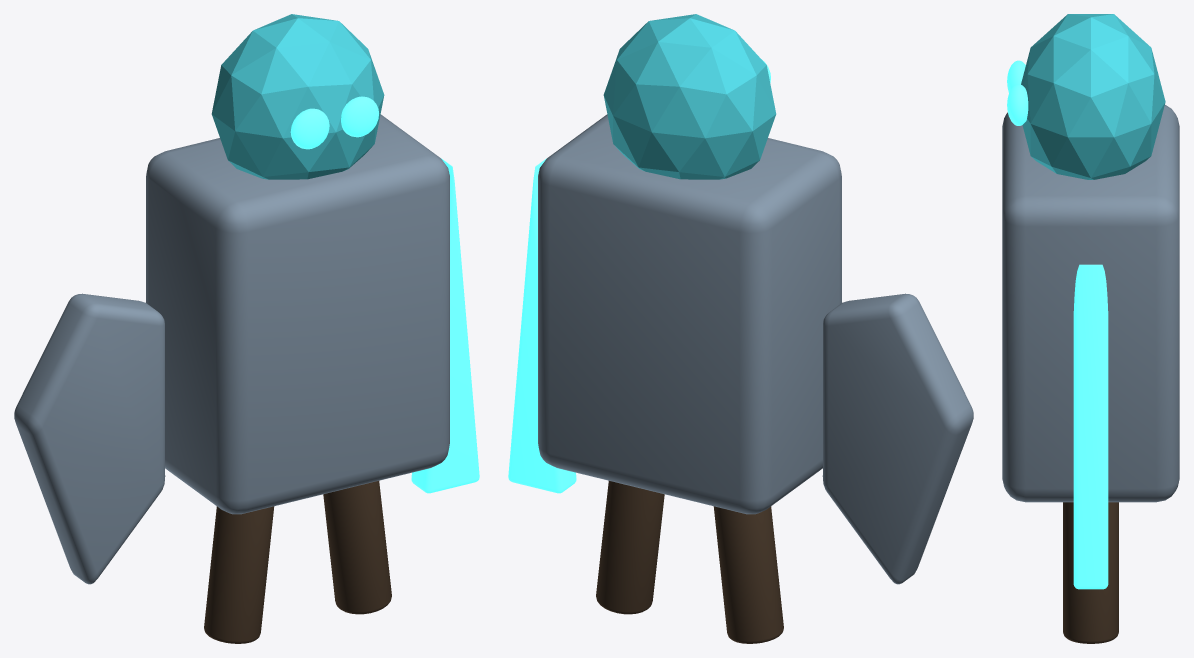
Rendered from undead_v5.glb.
The picture shows the model from 3 angles, left to right: view 1: azimuth 30°, elevation 25°; view 2: azimuth 150°, elevation 25°; view 3: azimuth 270°, elevation 25°; orthographic projection. The views are drawn at different scales.
Visible parts, largest first — view 1: BONE_KNIGHT_TORSO_PRIMARY, BONE_SHIELD_PRIMARY, SKULL_HELM_ACCENT, BONE_KNIGHT_LEG_SECONDARY, BONE_KNIGHT_LEG_SECONDARY.001, BONE_SWORD_EMISSIVE, EYE_EMISSIVE, EYE_EMISSIVE.001; view 2: BONE_KNIGHT_TORSO_PRIMARY, BONE_SHIELD_PRIMARY, SKULL_HELM_ACCENT, BONE_KNIGHT_LEG_SECONDARY, BONE_KNIGHT_LEG_SECONDARY.001, BONE_SWORD_EMISSIVE; view 3: BONE_KNIGHT_TORSO_PRIMARY, SKULL_HELM_ACCENT, BONE_SWORD_EMISSIVE, BONE_KNIGHT_LEG_SECONDARY.001, EYE_EMISSIVE.001, EYE_EMISSIVE.
Boxes of the visible parts, x1,y1,x2,y2 form: BONE_KNIGHT_TORSO_PRIMARY: (146, 114, 449, 514); BONE_SHIELD_PRIMARY: (14, 293, 165, 584); SKULL_HELM_ACCENT: (211, 14, 384, 179); BONE_KNIGHT_LEG_SECONDARY: (204, 506, 274, 643); BONE_KNIGHT_LEG_SECONDARY.001: (323, 481, 391, 614); BONE_SWORD_EMISSIVE: (411, 158, 479, 493); EYE_EMISSIVE: (290, 108, 329, 149); EYE_EMISSIVE.001: (341, 96, 378, 137); BONE_KNIGHT_TORSO_PRIMARY: (538, 114, 841, 514); BONE_SHIELD_PRIMARY: (822, 293, 973, 584); SKULL_HELM_ACCENT: (603, 14, 776, 179); BONE_KNIGHT_LEG_SECONDARY: (713, 506, 783, 643); BONE_KNIGHT_LEG_SECONDARY.001: (596, 481, 664, 614); BONE_SWORD_EMISSIVE: (508, 158, 576, 493); BONE_KNIGHT_TORSO_PRIMARY: (1002, 105, 1179, 502); SKULL_HELM_ACCENT: (1021, 14, 1165, 179); BONE_SWORD_EMISSIVE: (1073, 264, 1108, 589); BONE_KNIGHT_LEG_SECONDARY.001: (1063, 502, 1118, 643); EYE_EMISSIVE.001: (1007, 84, 1028, 125); EYE_EMISSIVE: (1007, 60, 1025, 92).
Bounding box in the file's own units: 2.19 × 2.79 × 0.76.
